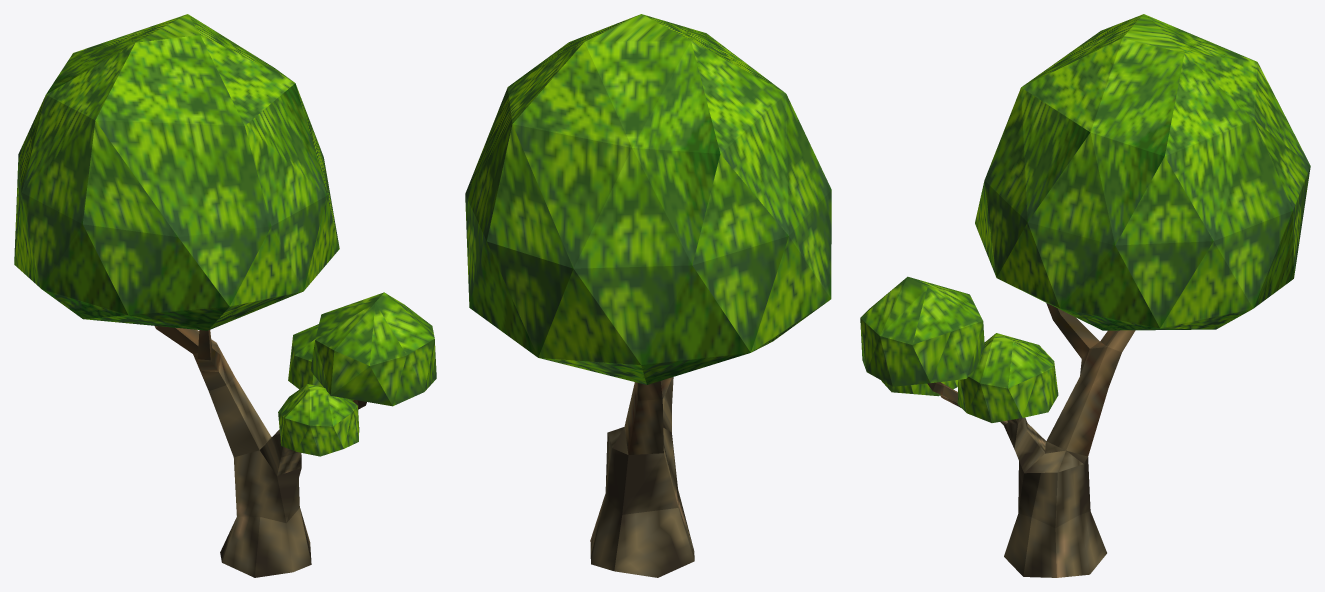
The model's file is Poly_Tree_01_D.obj.
The picture shows the model from 3 angles, left to right: view 1: azimuth 30°, elevation 25°; view 2: azimuth 150°, elevation 25°; view 3: azimuth 270°, elevation 25°; orthographic projection. The views are drawn at different scales.
Parts seen in each view (by area): view 1: Icosphere.001, Plane, Icosphere.003, Icosphere.002, Icosphere.004; view 2: Icosphere.001, Plane; view 3: Icosphere.001, Plane, Icosphere.003, Icosphere.004.
Part boxes in pixels (x1,y1,x2,y2): Icosphere.001: [14, 14, 339, 330]; Plane: [154, 326, 366, 577]; Icosphere.003: [310, 292, 436, 406]; Icosphere.002: [278, 384, 359, 456]; Icosphere.004: [288, 324, 353, 400]; Icosphere.001: [465, 14, 831, 384]; Plane: [590, 377, 694, 577]; Icosphere.001: [975, 14, 1310, 330]; Plane: [927, 303, 1135, 577]; Icosphere.003: [860, 276, 984, 386]; Icosphere.004: [957, 333, 1058, 422].
Bounding box in the file's own units: 2.24 × 3.74 × 3.
Materials: 1 (1 with a texture image).
